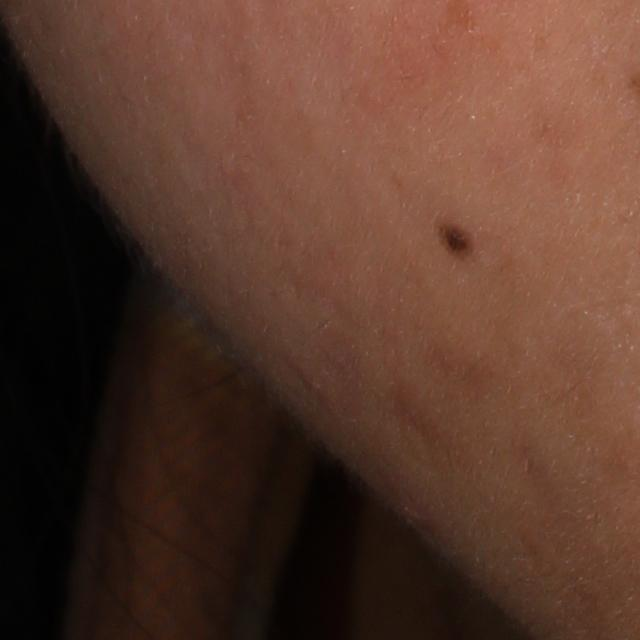nevus: (437, 218, 479, 260)
